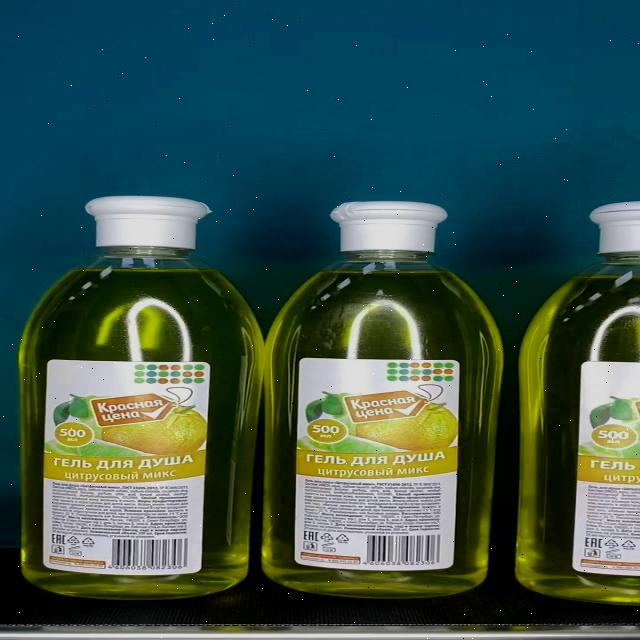Bottle: (21, 196, 263, 602), (262, 202, 502, 598)
Cap: (85, 196, 211, 246), (328, 202, 447, 252)
